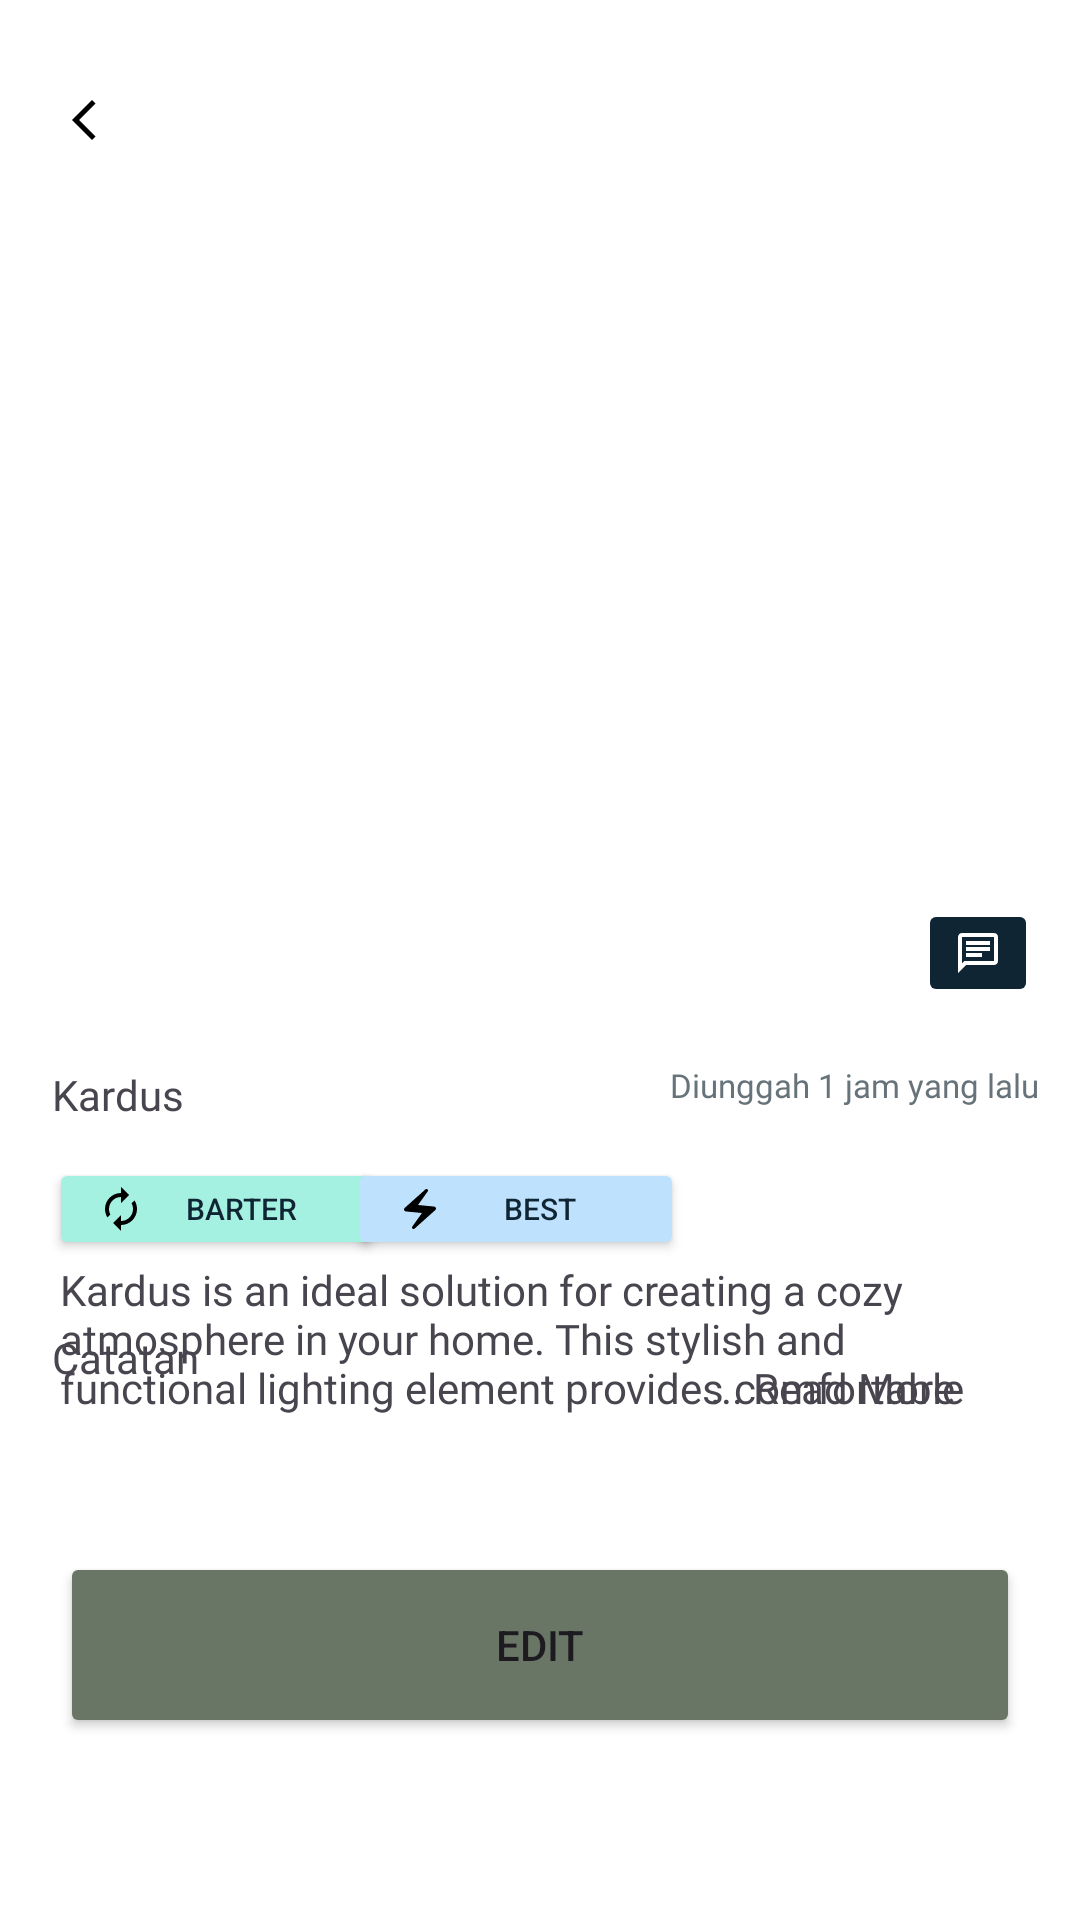

Named icons in this screenshot (1080w x 1920h) and their centers, (x,y):
back: (84,120)
chat: (978,953)
